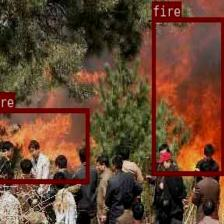fire: (151, 16, 224, 174), (0, 108, 88, 183)
